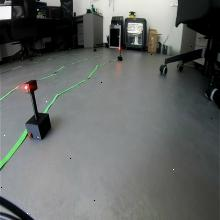red: (23, 80, 36, 94)
